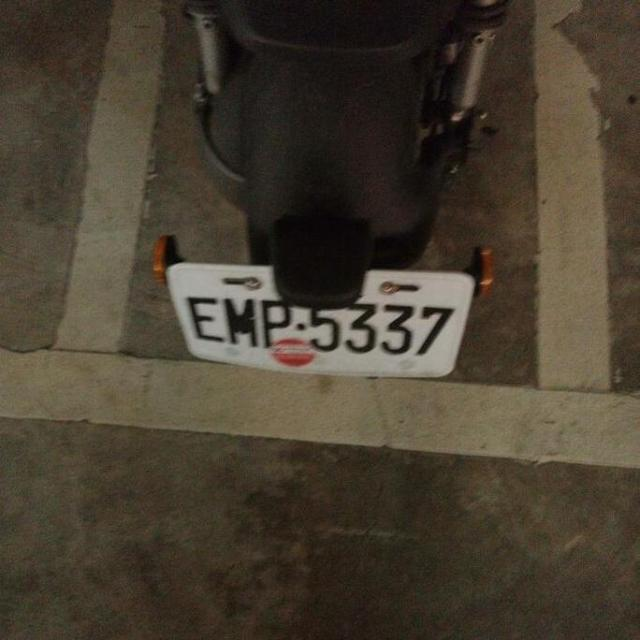W: (154, 242, 481, 392)
